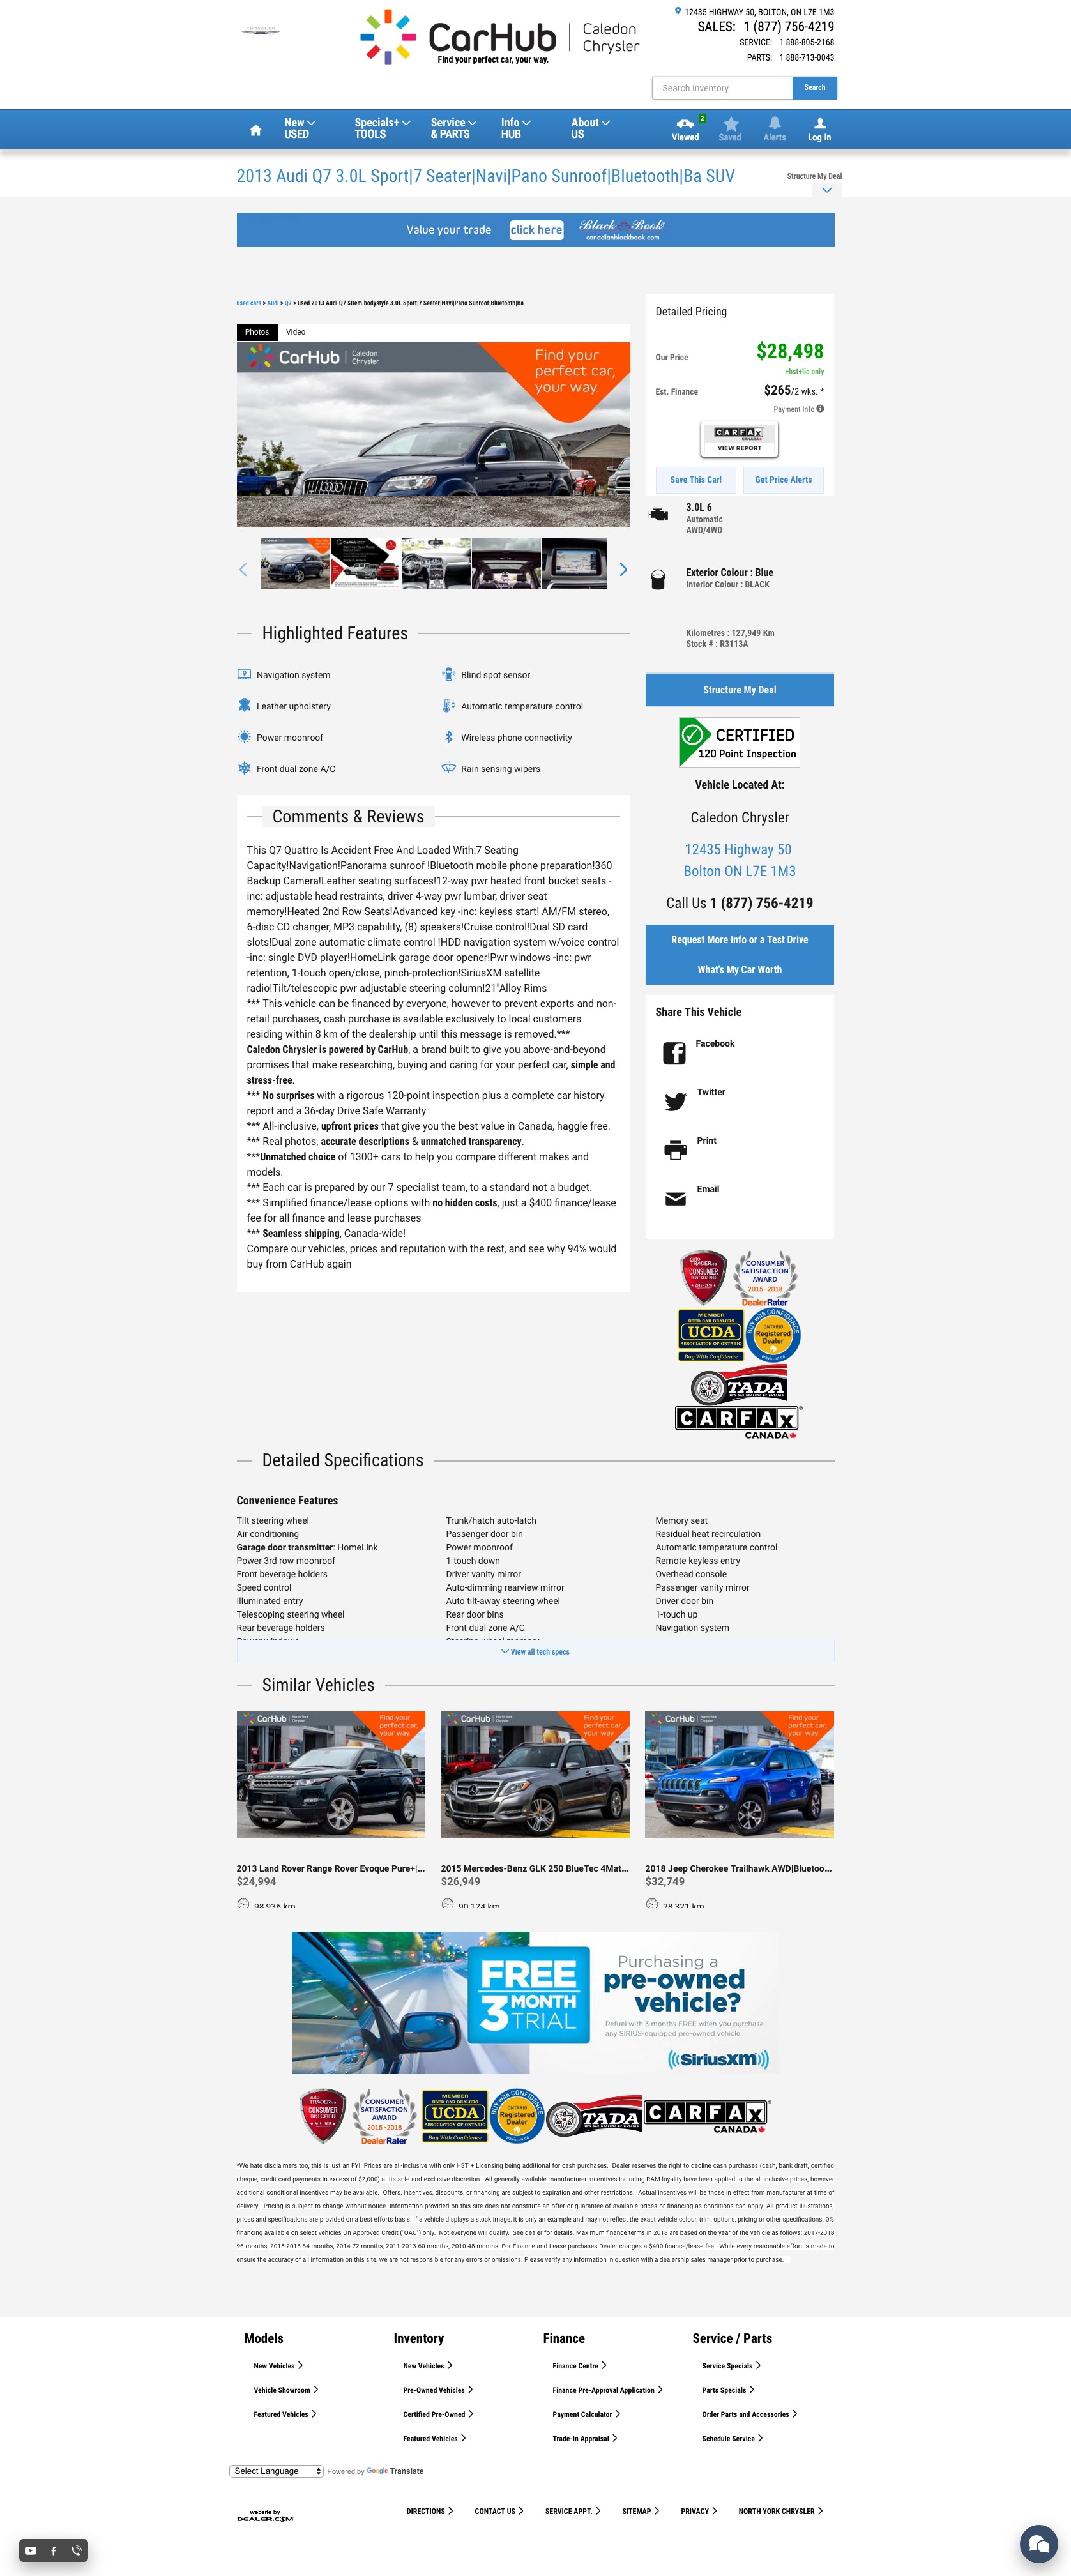car: (619, 562, 629, 578)
